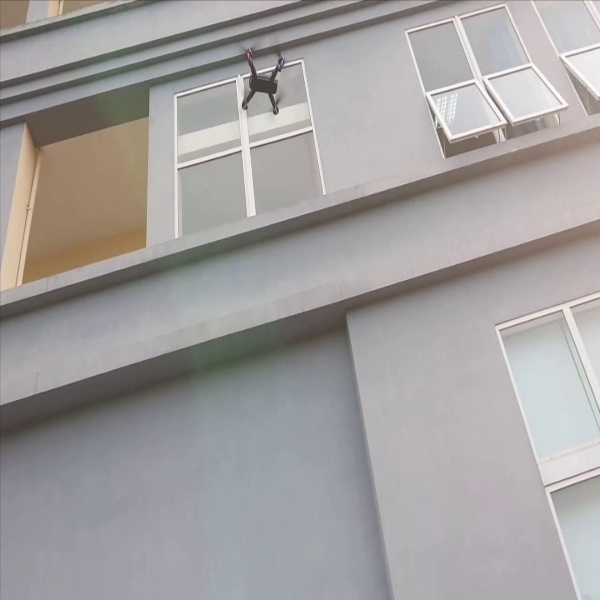drone: (234, 37, 295, 124)
